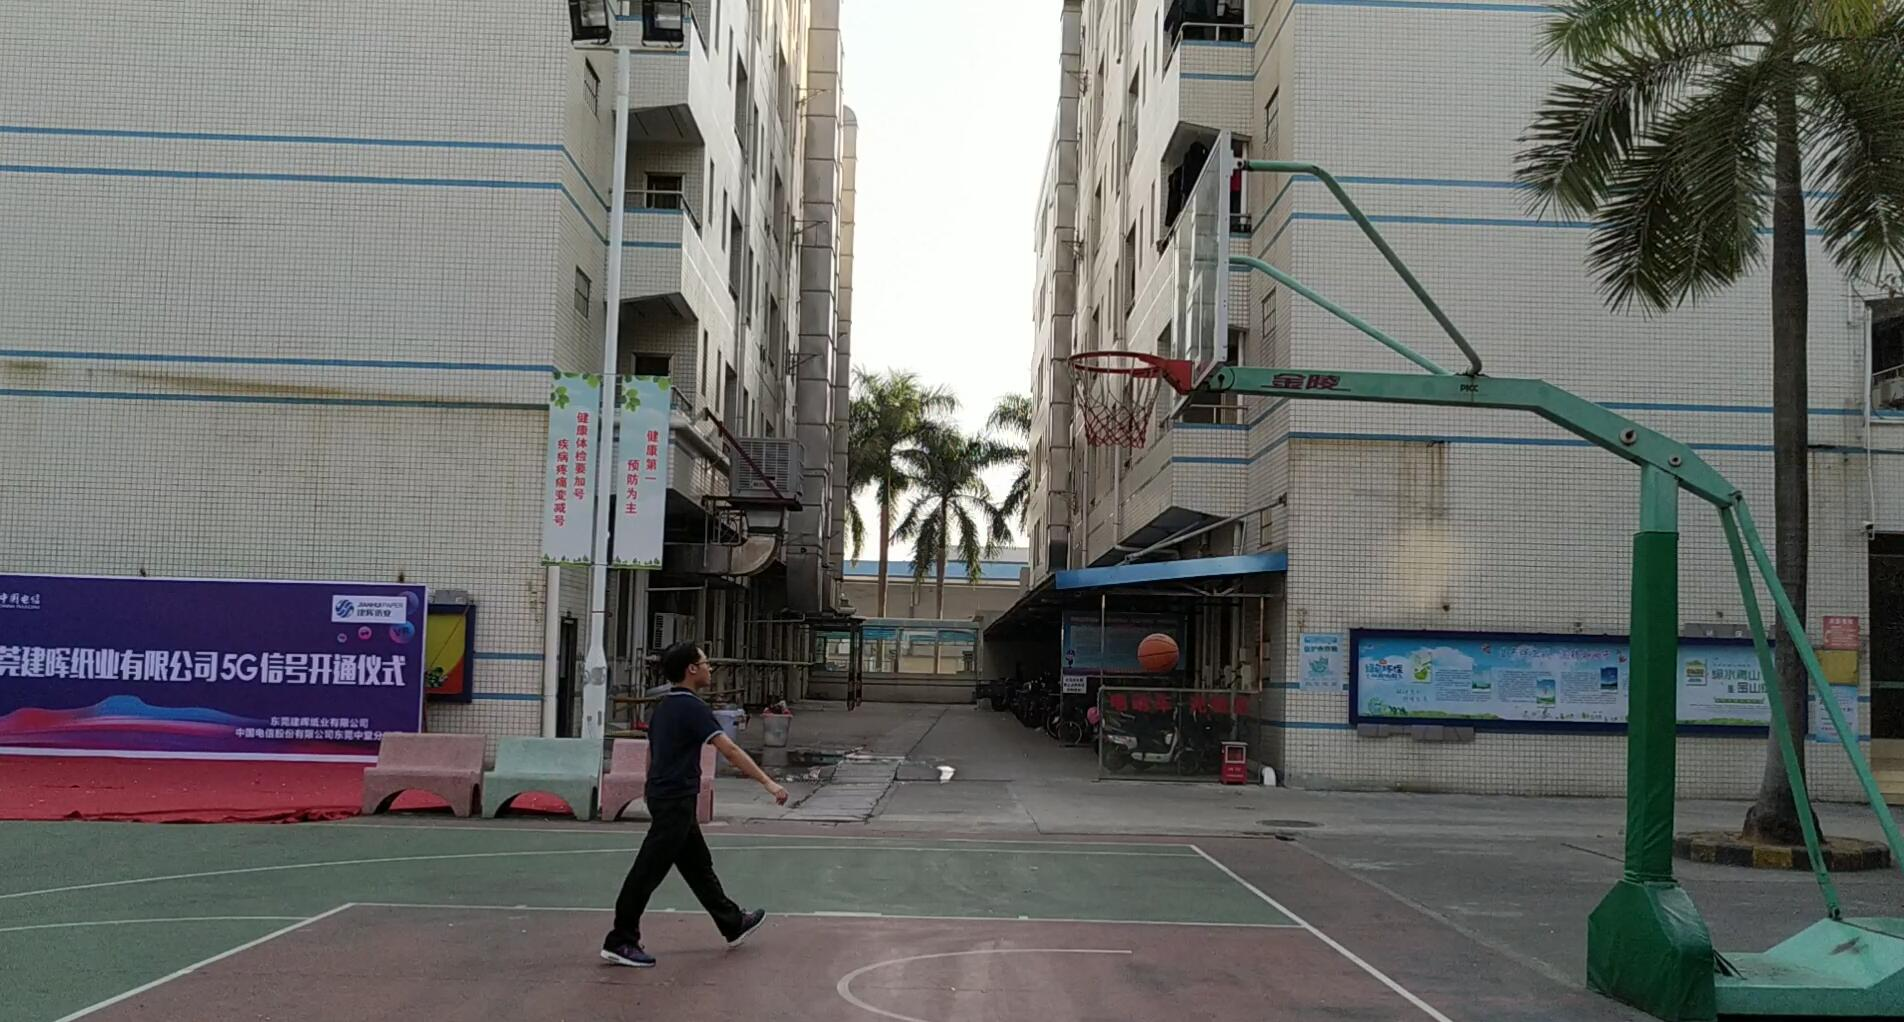basketball: (1135, 627, 1182, 682)
